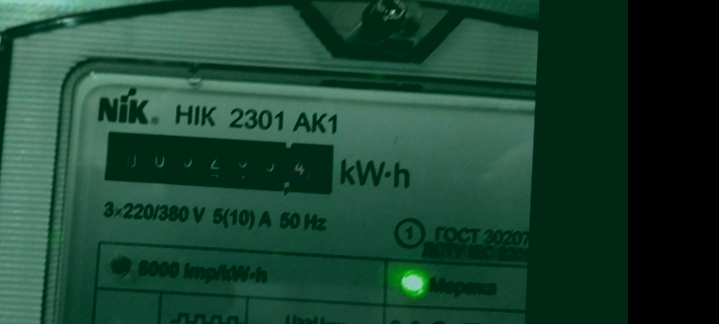0: (122, 143, 139, 170), (151, 143, 166, 168)
2: (206, 144, 221, 170)
3: (234, 143, 249, 169)
4: (291, 150, 307, 177)
5: (261, 146, 277, 173), (178, 143, 194, 169)
screen: (94, 121, 345, 201)
